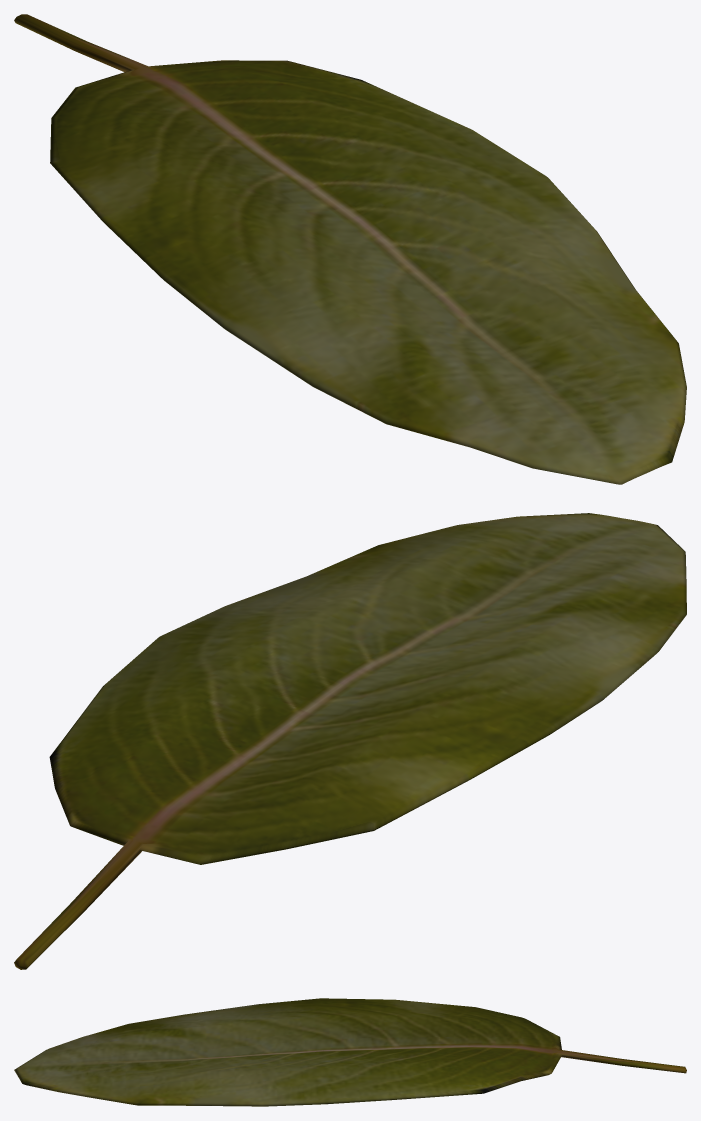
File: Flower-Leafonly (1).fbx
3 views of the same model, one above another, from view 1: azimuth 30°, elevation 25°; view 2: azimuth 150°, elevation 25°; view 3: azimuth 270°, elevation 25° (orthographic). The views are drawn at different scales.
Parts seen in each view (by area): view 1: Leaf; view 2: Leaf; view 3: Leaf.
Boxes of the visible parts, <box> form: Leaf: <box>14,14,686,484</box>; Leaf: <box>14,513,686,969</box>; Leaf: <box>14,998,686,1106</box>.
Size of the model in its own units: 0.1183 by 0.0194 by 0.3238.
Materials: 1 (1 with a texture image).
